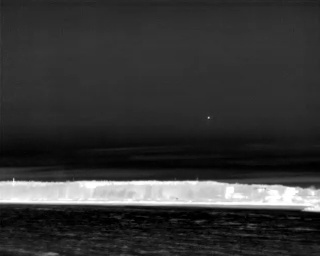HELICOPTER: (205, 113, 213, 123)
